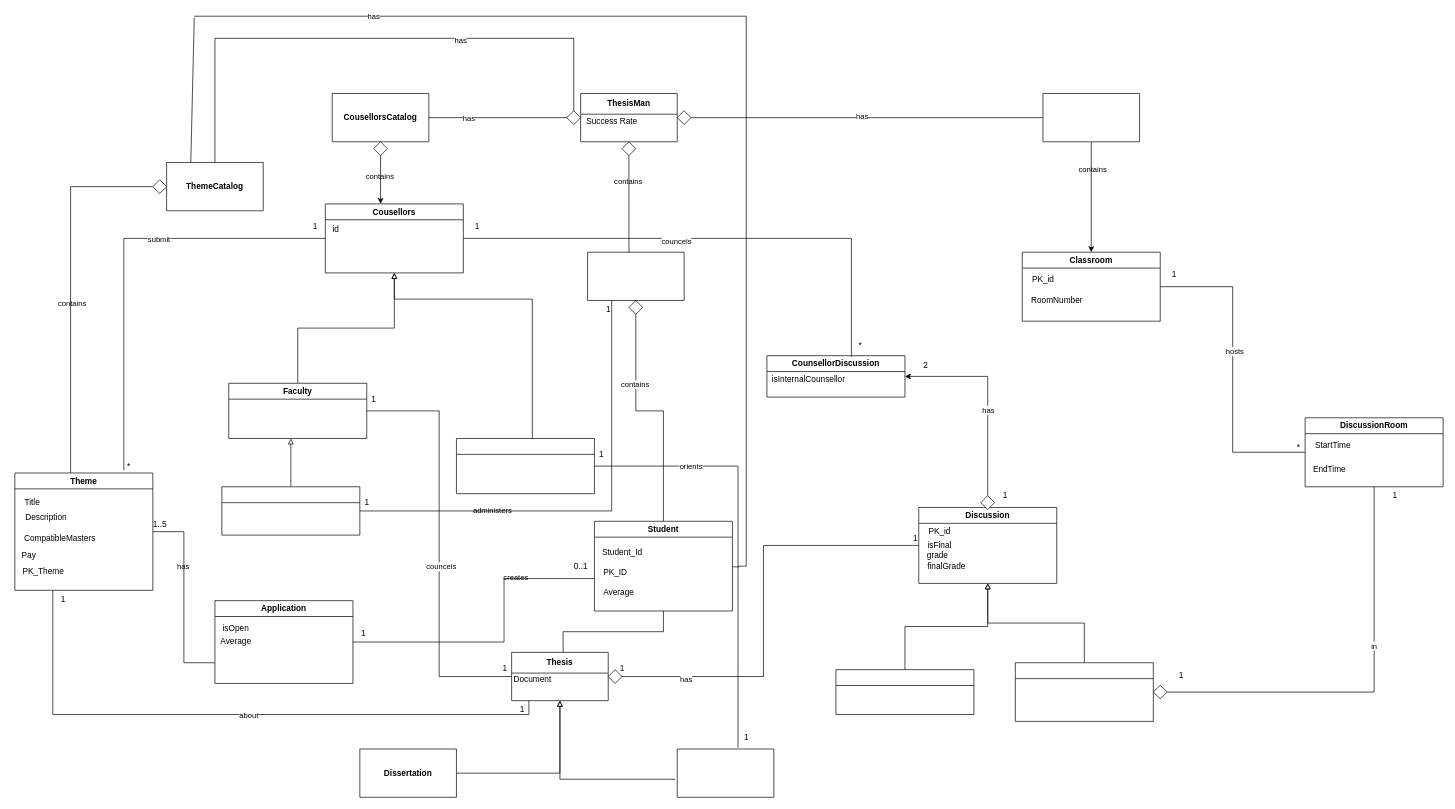
The diagram is 1455 pixels wide and 809 high, and some of its shapes have lost their labels. Here are the shapes that lost their labels. From the top down, the centre of each, then its label:
At (1091,117): "ClassroomCatalog".
At (635,276): "StudentsCathalog".
At (525,466): "Enterprise".
At (290,510): "Administrator".
At (904,691): "Online".
At (1084,691): "InPerson".
At (725,772): "Project".
